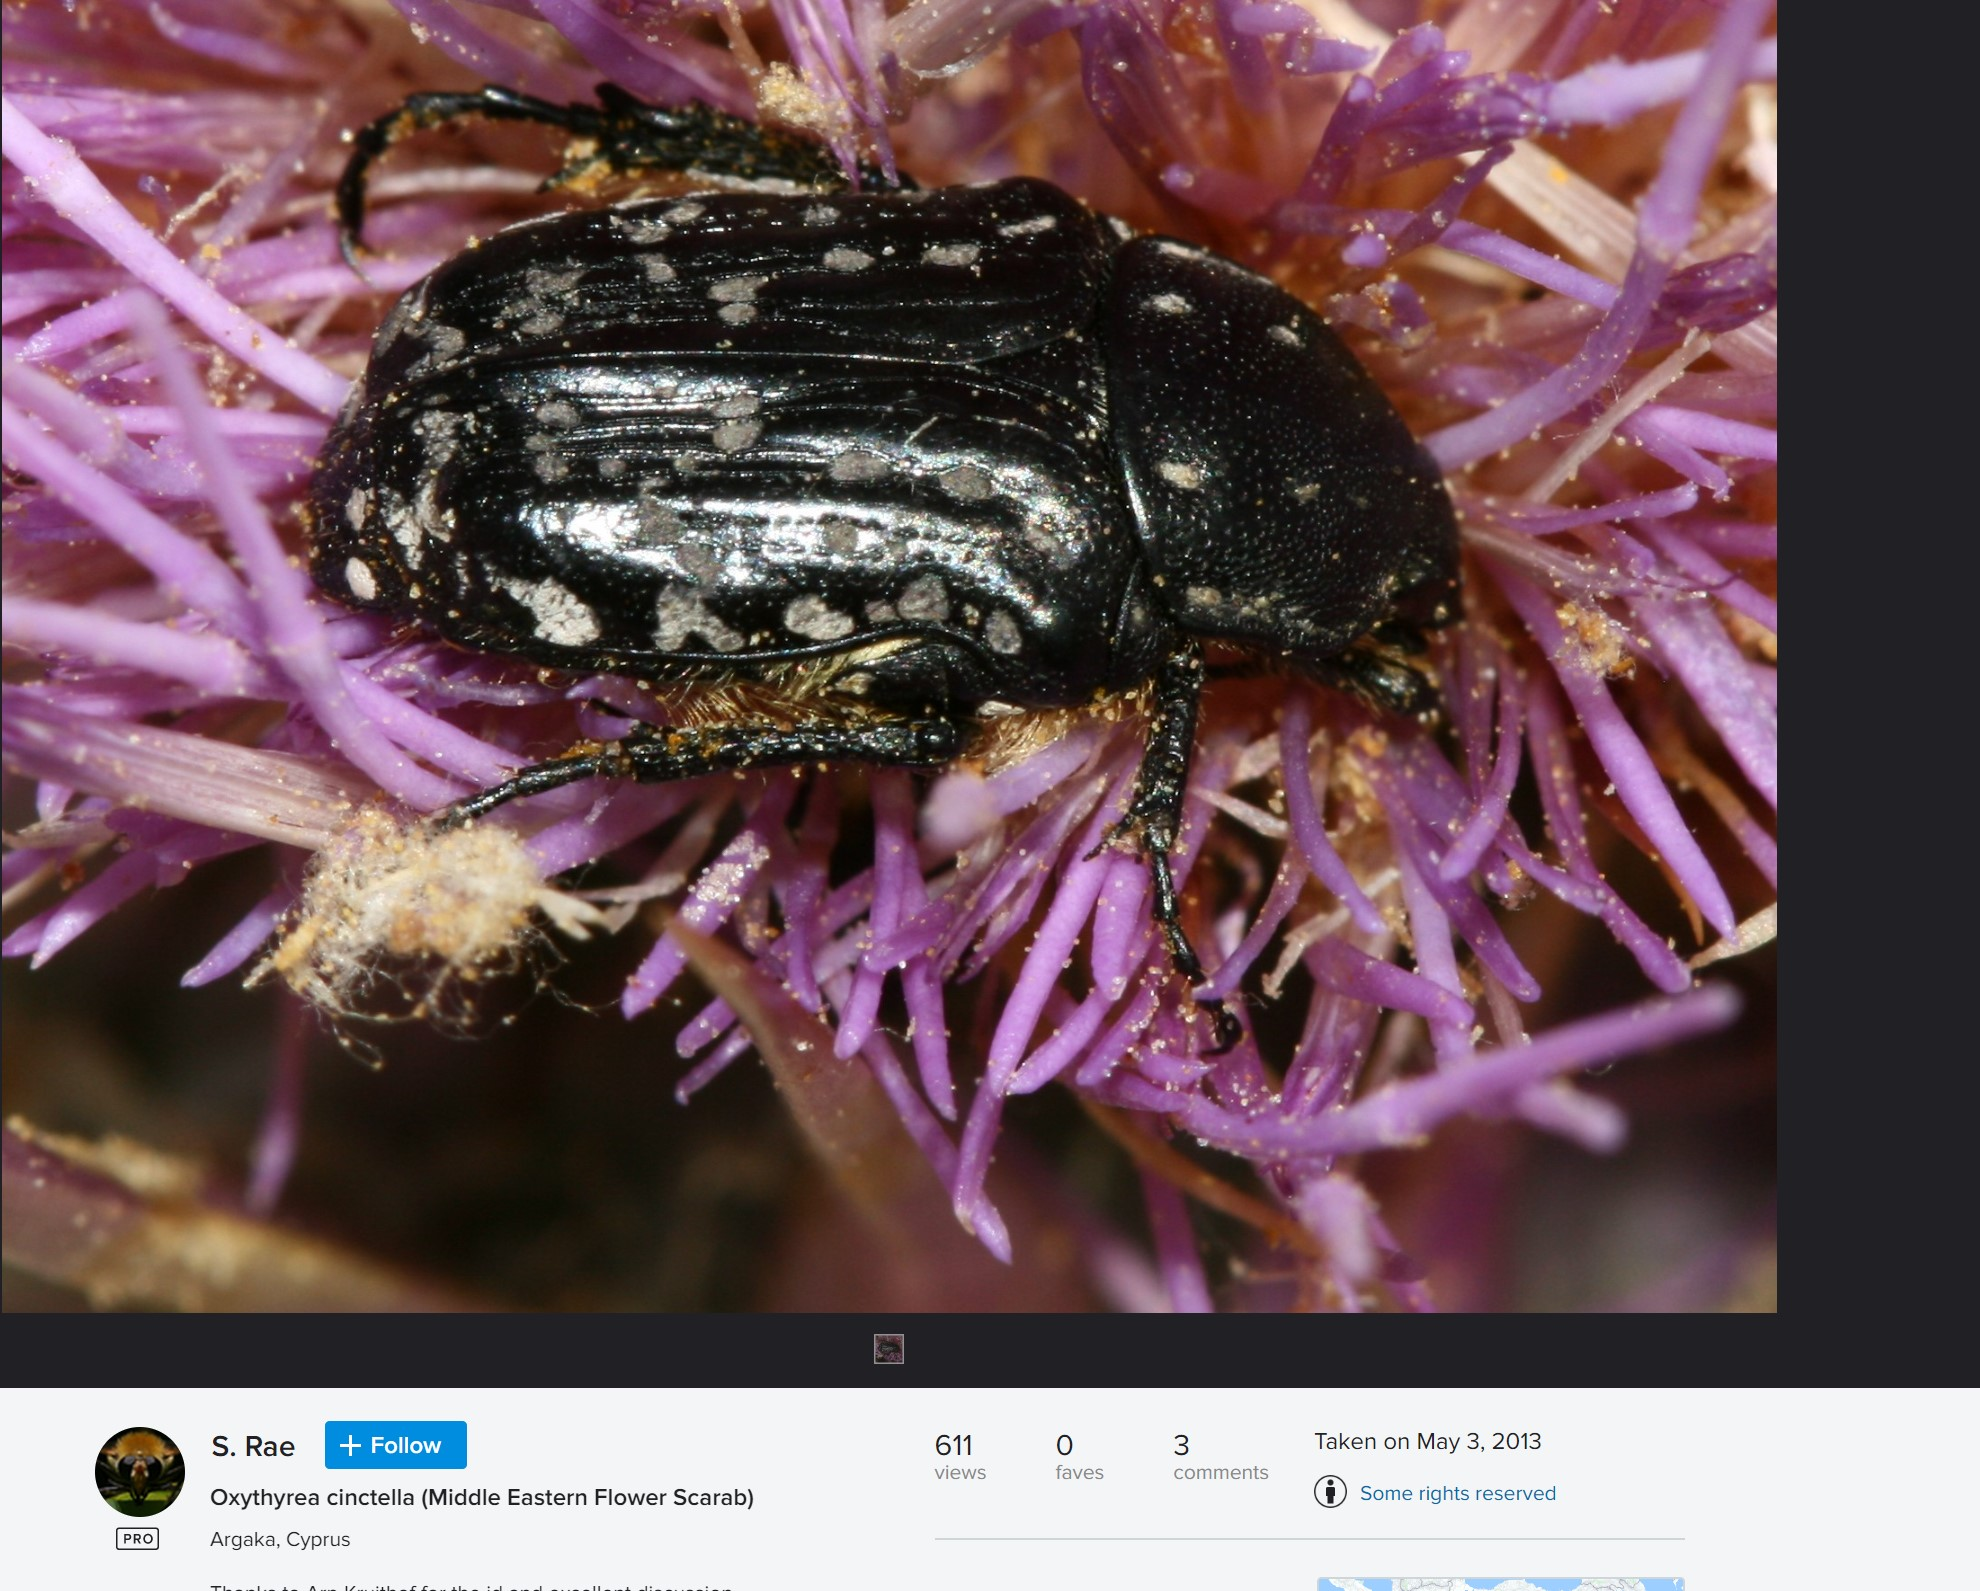Oxythyrea_albopicta: (278, 91, 1488, 1057)
